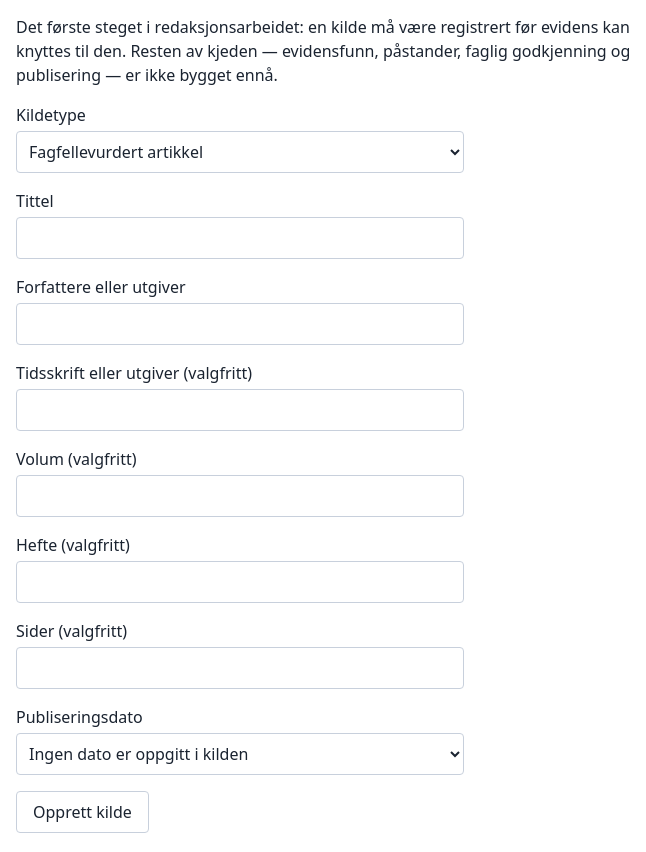
Test case: Opprett kilde — publiseringsdato › et bytte av presisjon beholder det brukeren allerede har skrevet
This screenshot has width=646, height=852.
(page scrolled)
Expected: the field labelled "Tittel" is shown, x1=16 y1=217 x2=464 y2=259
Select "Bare året er kjent" in the dropdown labelled "Publiseringsdato" at (240, 754), box x1=16 y1=733 x2=464 y2=775
(page scrolled)
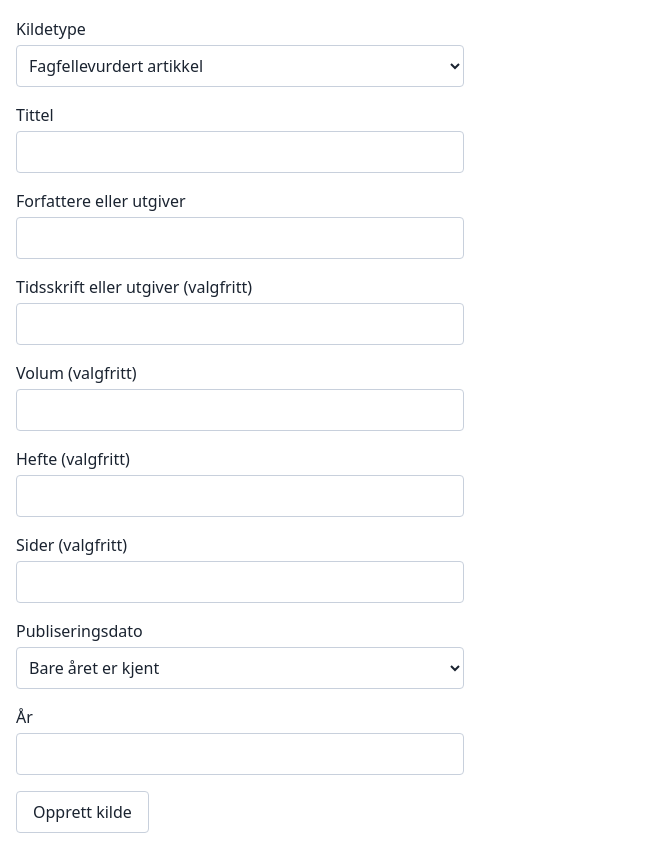
Type "2000" into the number field labelled "År" at (240, 754), box x1=16 y1=733 x2=464 y2=775
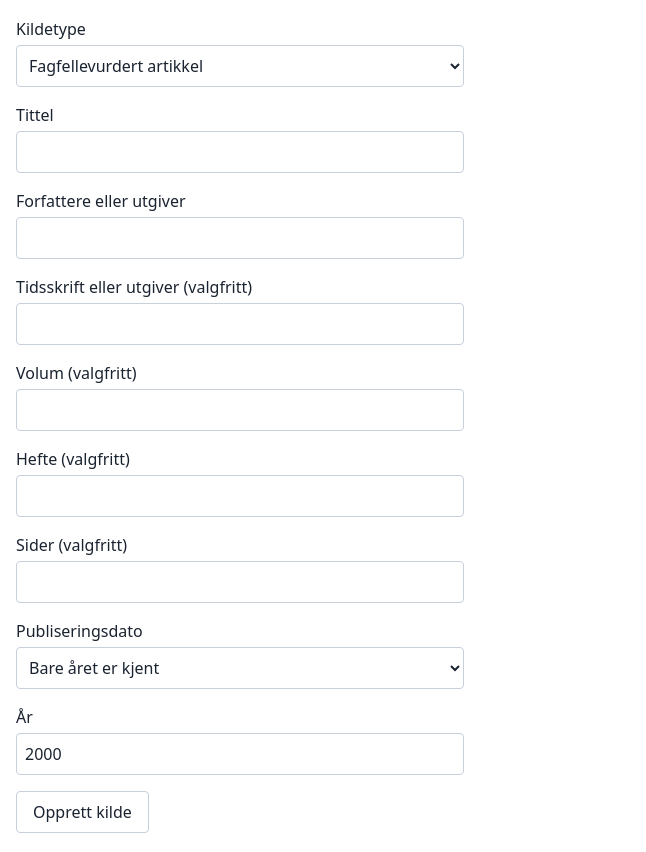
Select "Nøyaktig dato er kjent" in the dropdown labelled "Publiseringsdato" at (240, 668), box x1=16 y1=647 x2=464 y2=689
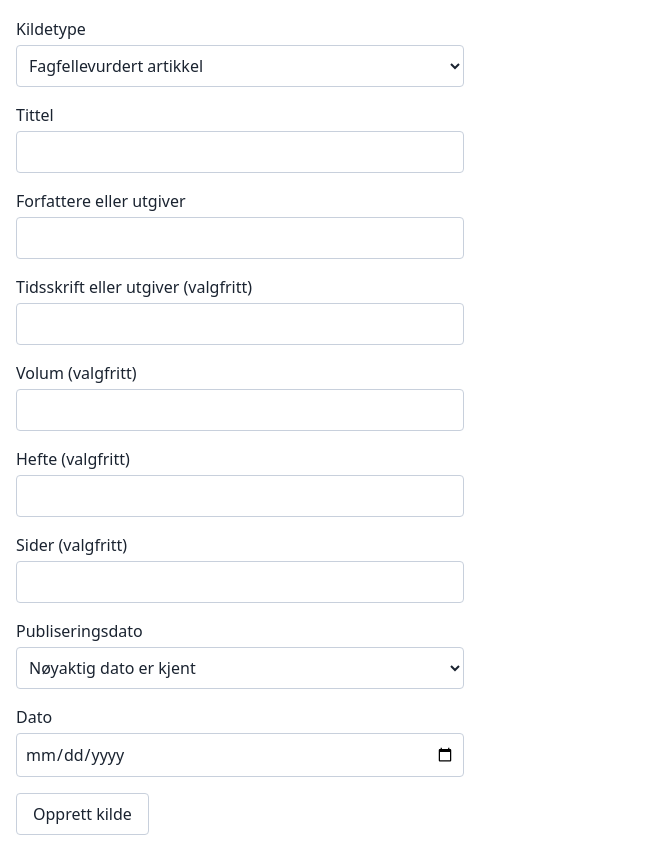
Type "2005-04-07" into the date field labelled "Dato" at (240, 755), box x1=16 y1=733 x2=464 y2=777
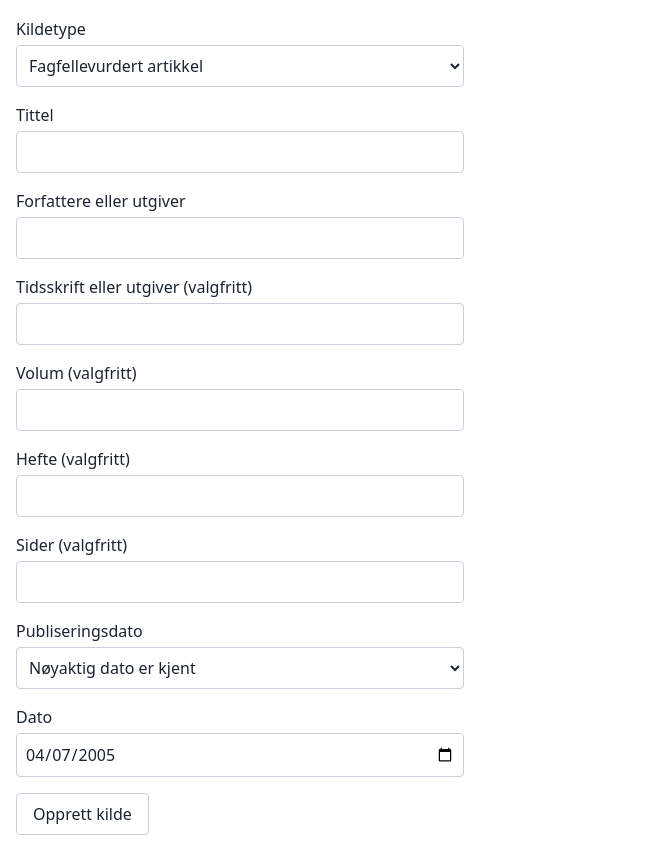
Select "Bare året er kjent" in the dropdown labelled "Publiseringsdato" at (240, 668), box x1=16 y1=647 x2=464 y2=689
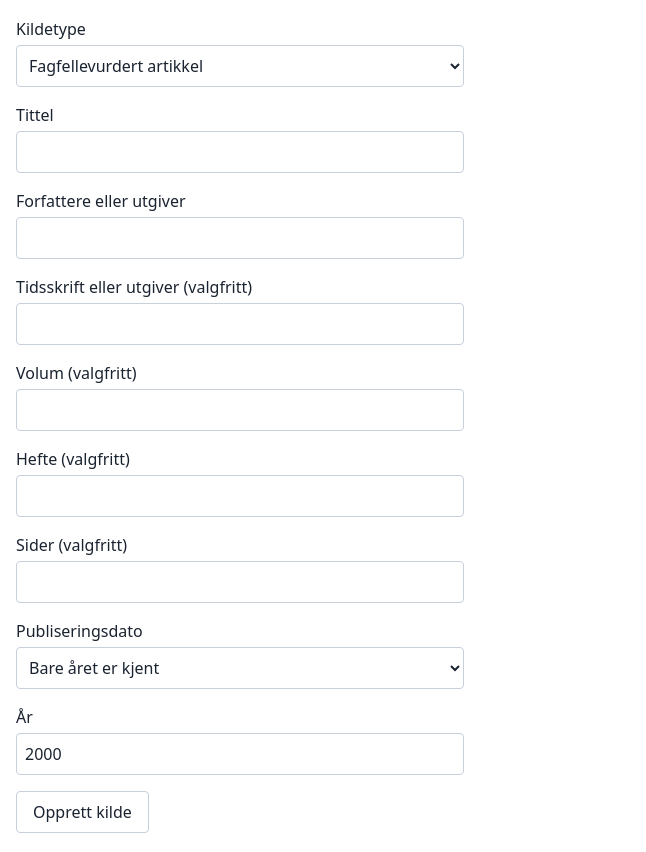
Result: the number field labelled "År" holds "2000" at x1=16 y1=733 x2=464 y2=775
